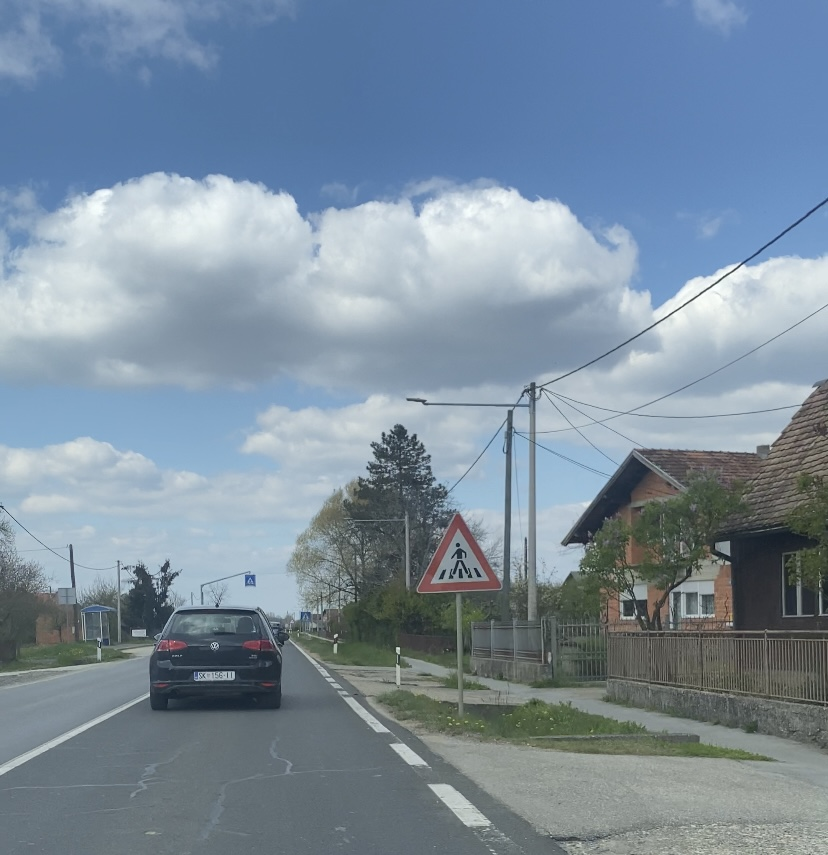Približavanje pješačkom prijelazu: (416, 512, 504, 592)
